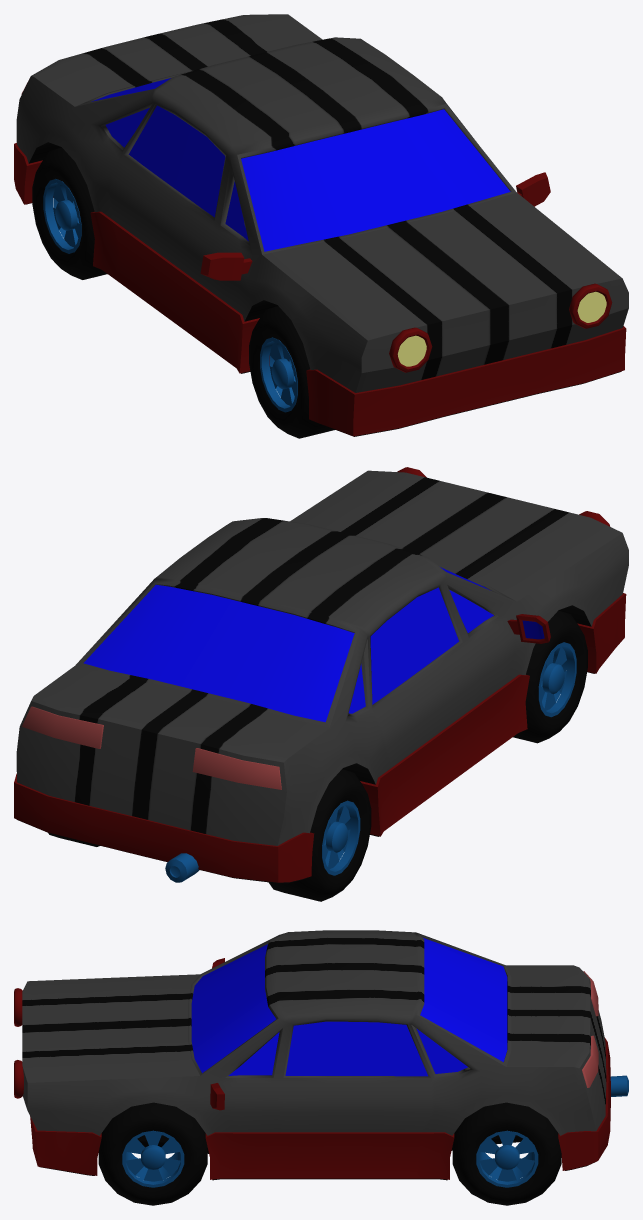
Rendered from Muscle Evolution1 DarkRed TrilineBlackGrey Blue BlueGrey.gltf.
The picture shows the model from 3 angles, top to bottom: view 1: azimuth 30°, elevation 25°; view 2: azimuth 150°, elevation 25°; view 3: azimuth 270°, elevation 25°; orthographic projection. The views are drawn at different scales.
Parts seen in each view (by area): view 1: evo1_body4_f1_dupl, evo1_sill0_f1_dupl, evo1_frontGlass_f1_dupl, evo1_glasseBigR_f1_dupl, evo1_tire_rf_f1_dupl, evo1_tire_rf1_f1_dupl, evo1_rim_A_rb_f1_dupl, evo1_rim_A_rf_f1_dupl, evo1_mirorR3_f1_dupl, evo1_blockLightR_f1_dupl, evo1_blockLightL_f1_dupl, evo1_mirorL3_f1_dupl (+4 smaller); view 2: evo1_body4_f1_dupl, evo1_sill0_f1_dupl, evo1_BackGlassGlass_f1_dupl, evo1_glasseBigR_f1_dupl, evo1_tire_rf_f1_dupl, evo1_tire_rf1_f1_dupl, evo1_rim_A_rf_f1_dupl, evo1_rim_A_rb_f1_dupl, evo1_redlightR2_f1_dupl, evo1_redlightL2_f1_dupl, evo1_glassfR_f1_dupl, evo1_pipe1_f1_dupl (+1 smaller); view 3: evo1_body4_f1_dupl, evo1_sill0_f1_dupl, evo1_BackGlassGlass_f1_dupl, evo1_glasseBigL_f1_dupl, evo1_frontGlass_f1_dupl, evo1_tire_lb_f1_dupl, evo1_tire_lf_f1_dupl, evo1_rim_A_lf_f1_dupl, evo1_rim_A_lb_f1_dupl, evo1_glassfL_f1_dupl, evo1_glassbL_f1_dupl, evo1_GroundBody_f1_dupl (+1 smaller).
Part boxes in pixels (<box>): evo1_body4_f1_dupl: <box>16,14,628,392</box>; evo1_sill0_f1_dupl: <box>14,143,626,436</box>; evo1_frontGlass_f1_dupl: <box>241,109,510,251</box>; evo1_glasseBigR_f1_dupl: <box>128,105,225,217</box>; evo1_tire_rf_f1_dupl: <box>32,147,107,279</box>; evo1_tire_rf1_f1_dupl: <box>249,306,334,438</box>; evo1_rim_A_rb_f1_dupl: <box>43,179,81,253</box>; evo1_rim_A_rf_f1_dupl: <box>260,337,297,412</box>; evo1_mirorR3_f1_dupl: <box>200,252,252,280</box>; evo1_blockLightR_f1_dupl: <box>389,327,432,372</box>; evo1_blockLightL_f1_dupl: <box>569,283,612,328</box>; evo1_mirorL3_f1_dupl: <box>516,172,550,206</box>; evo1_body4_f1_dupl: <box>16,470,628,845</box>; evo1_sill0_f1_dupl: <box>14,593,626,882</box>; evo1_BackGlassGlass_f1_dupl: <box>83,584,354,722</box>; evo1_glasseBigR_f1_dupl: <box>370,587,458,704</box>; evo1_tire_rf_f1_dupl: <box>268,769,371,901</box>; evo1_tire_rf1_f1_dupl: <box>513,610,587,743</box>; evo1_rim_A_rf_f1_dupl: <box>538,642,576,717</box>; evo1_rim_A_rb_f1_dupl: <box>322,800,360,875</box>; evo1_redlightR2_f1_dupl: <box>192,748,281,789</box>; evo1_redlightL2_f1_dupl: <box>22,706,103,748</box>; evo1_glassfR_f1_dupl: <box>449,590,493,632</box>; evo1_pipe1_f1_dupl: <box>165,853,199,882</box>; evo1_body4_f1_dupl: <box>22,930,606,1152</box>; evo1_sill0_f1_dupl: <box>30,1037,610,1179</box>; evo1_BackGlassGlass_f1_dupl: <box>420,937,507,1061</box>; evo1_glasseBigL_f1_dupl: <box>285,1021,427,1076</box>; evo1_frontGlass_f1_dupl: <box>191,944,276,1073</box>; evo1_tire_lb_f1_dupl: <box>452,1102,561,1205</box>; evo1_tire_lf_f1_dupl: <box>98,1102,207,1205</box>; evo1_rim_A_lf_f1_dupl: <box>122,1130,184,1187</box>; evo1_rim_A_lb_f1_dupl: <box>476,1130,538,1187</box>; evo1_glassfL_f1_dupl: <box>228,1032,279,1075</box>; evo1_glassbL_f1_dupl: <box>416,1028,467,1073</box>; evo1_GroundBody_f1_dupl: <box>40,1140,594,1180</box>.
Size of the model in its own units: 177 by 112 by 331.
Materials: 7 (1 with a texture image).
